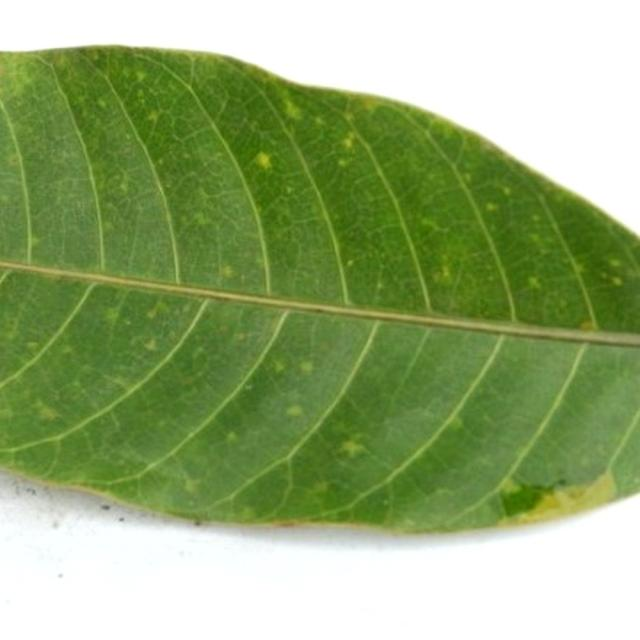Mango: (0, 47, 639, 334), (0, 269, 639, 531)
Powdery_Mildew: (5, 51, 64, 102), (420, 495, 502, 527), (160, 55, 208, 90), (251, 138, 283, 177), (168, 117, 207, 145), (550, 486, 579, 513), (342, 437, 371, 463), (144, 299, 170, 320), (282, 97, 302, 120), (36, 404, 59, 422), (420, 217, 444, 233), (433, 264, 453, 283), (357, 95, 379, 111), (502, 481, 523, 496), (183, 477, 201, 494), (447, 414, 465, 431), (4, 317, 20, 335), (192, 211, 211, 226), (104, 307, 121, 323), (285, 405, 305, 418), (239, 505, 256, 520), (109, 378, 130, 389), (27, 234, 42, 249), (143, 337, 159, 351), (434, 487, 454, 498), (527, 275, 542, 289), (299, 360, 314, 374), (220, 264, 235, 278), (313, 481, 329, 494), (118, 176, 130, 193), (272, 360, 286, 374), (579, 319, 596, 330), (341, 137, 354, 150), (7, 154, 21, 166), (147, 110, 159, 123), (134, 70, 147, 82), (277, 520, 298, 527), (485, 202, 498, 213), (609, 258, 623, 268), (226, 431, 238, 442), (60, 345, 73, 355), (403, 517, 416, 527), (103, 221, 114, 232), (96, 98, 107, 109), (611, 276, 623, 286), (530, 233, 542, 243), (26, 341, 39, 350), (575, 264, 586, 274), (314, 116, 325, 126), (462, 172, 472, 183), (2, 407, 13, 417), (375, 281, 384, 293), (337, 158, 347, 168), (502, 186, 512, 196), (257, 257, 266, 268), (556, 478, 568, 486), (346, 259, 355, 268), (531, 214, 541, 222), (157, 159, 164, 167), (193, 519, 201, 526)
